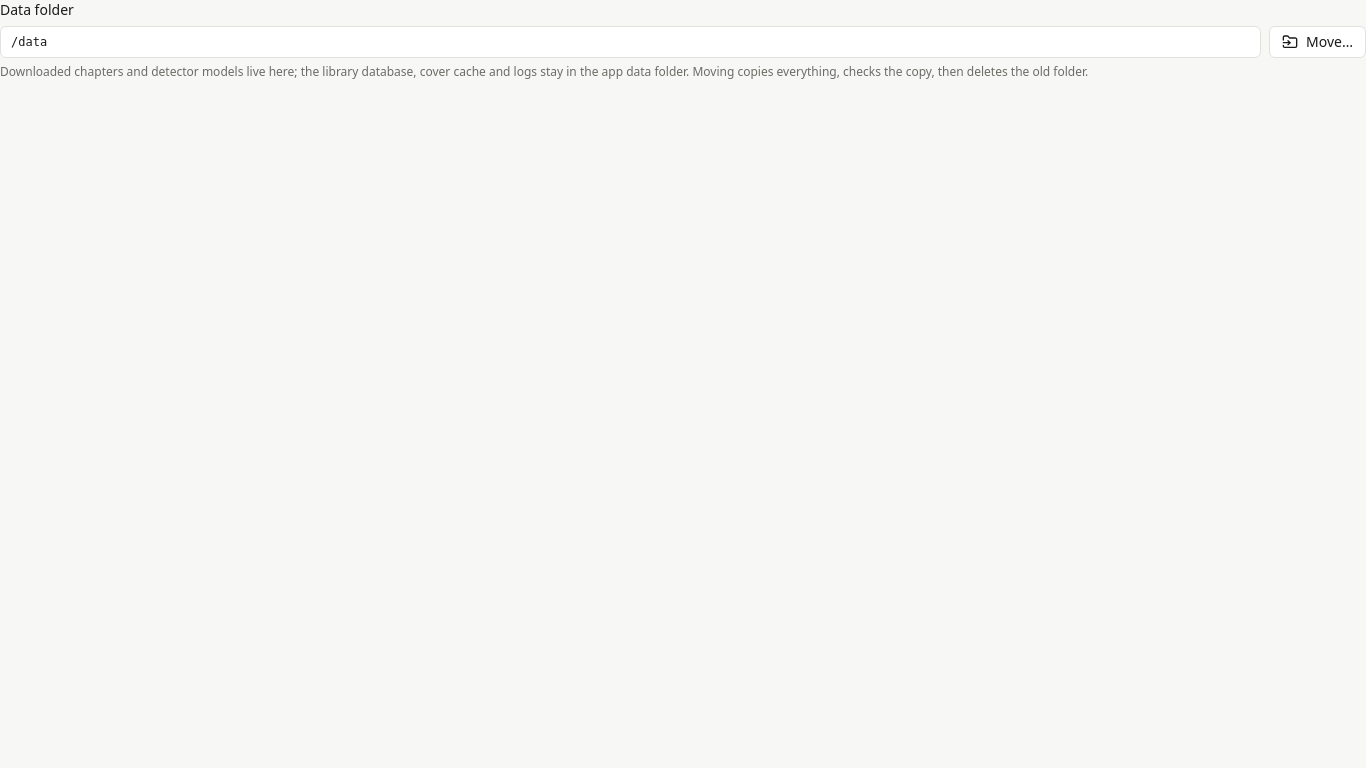
Test: DataFolderField: a folder an interrupted move left a partial copy in › asks once to replace the partial copy, then moves replacing it
The width and height of the screenshot is (1366, 768).
Later steps or results of the test are not shown.
Click the button "Move…" at x=1318, y=42, box [1269,26,1365,58]
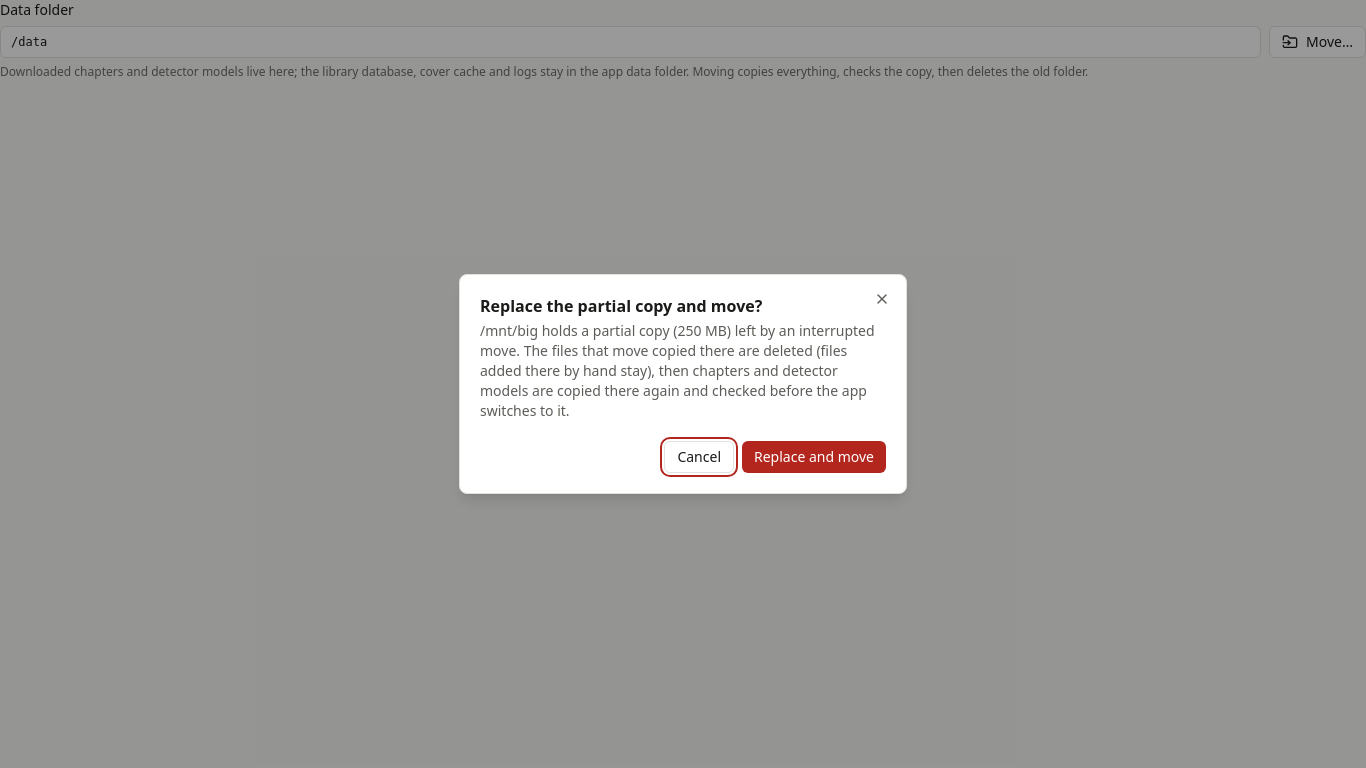
Check: the heading "Replace the partial copy and move?" is shown, box [480,295,762,317]
Check: the text "files added there by hand stay" is shown, box [480,321,875,420]
